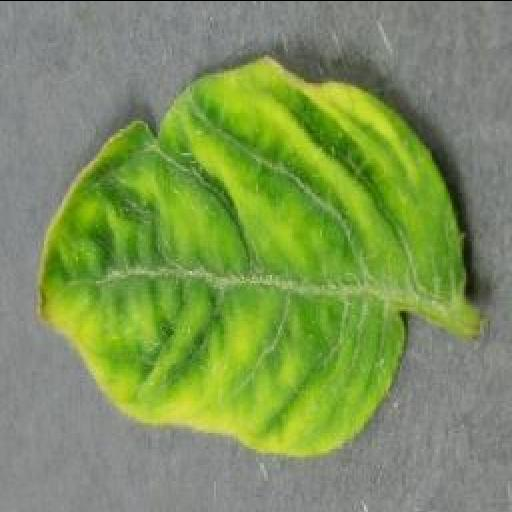disease_tomato: (34, 54, 468, 454)
